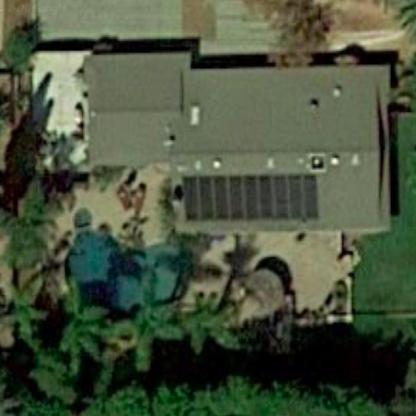solar_panel: (175, 165, 332, 229)
swimming_pool: (54, 211, 188, 323)
